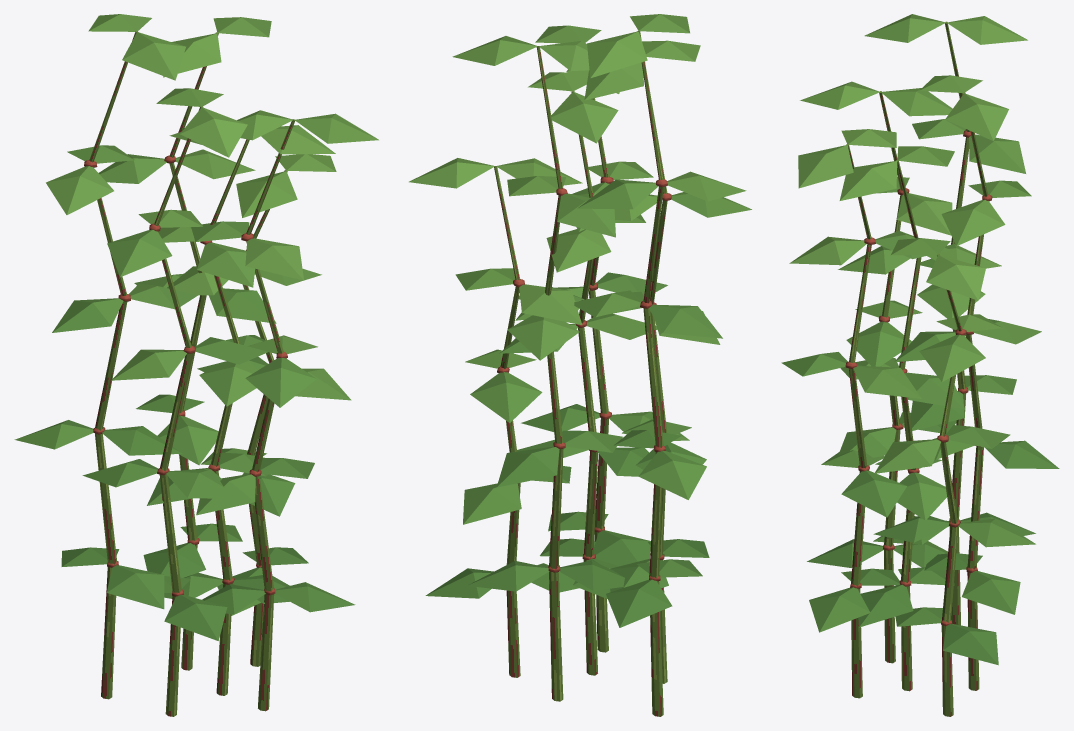
The model's file is f_japanese_knotweed.glb.
3 renders of one model, left to right at view 1: azimuth 30°, elevation 25°; view 2: azimuth 150°, elevation 25°; view 3: azimuth 270°, elevation 25°, orthographic. The views are drawn at different scales.
Parts seen in each view (by area): view 1: f_japanese_knotweed_mesh; view 2: f_japanese_knotweed_mesh; view 3: f_japanese_knotweed_mesh.
Part boxes in pixels (bbox=[...]): f_japanese_knotweed_mesh: bbox=[14, 14, 378, 716]; f_japanese_knotweed_mesh: bbox=[409, 14, 751, 716]; f_japanese_knotweed_mesh: bbox=[781, 14, 1059, 716].
Size of the model in its own units: 0.9615 by 2.05 by 0.81.
Materials: 1 (1 with a texture image).
